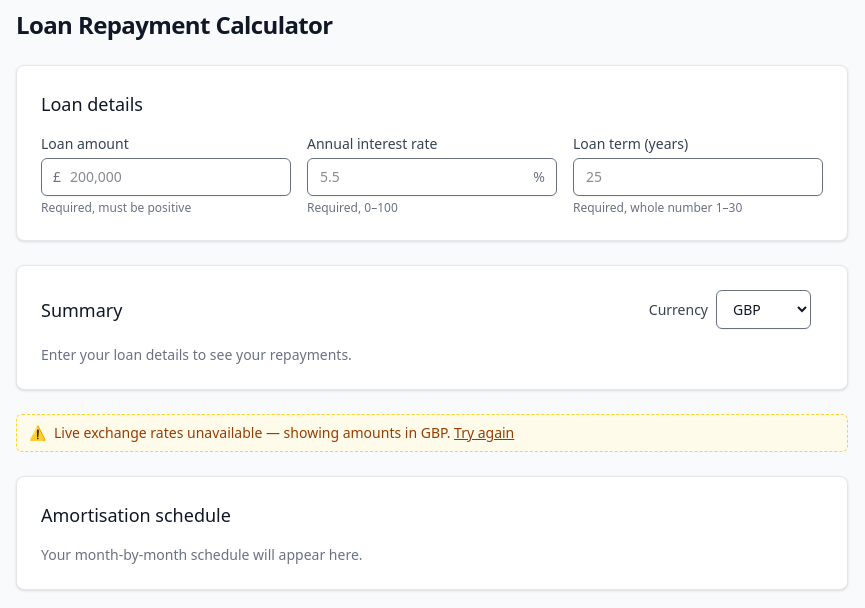
"Try again" recovers once the rates API is back
Expected: the text "Live exchange rates unavailable" is shown, [54, 423, 450, 442]
Click the button "Try again" at (484, 433), box [454, 423, 514, 443]
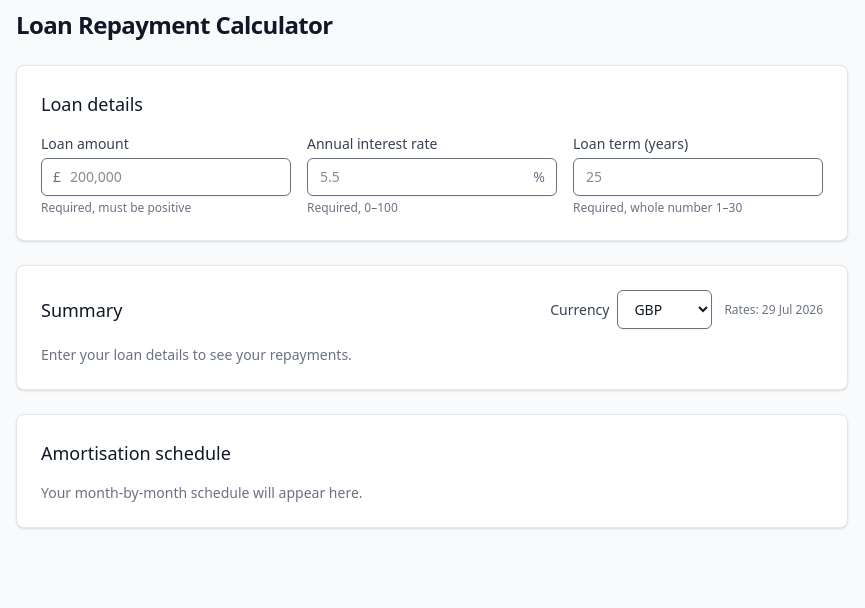
Expected: the text "Rates: 29 Jul 2026" is shown, [724, 302, 823, 318]
Expected: the text "Live exchange rates unavailable" is gone
